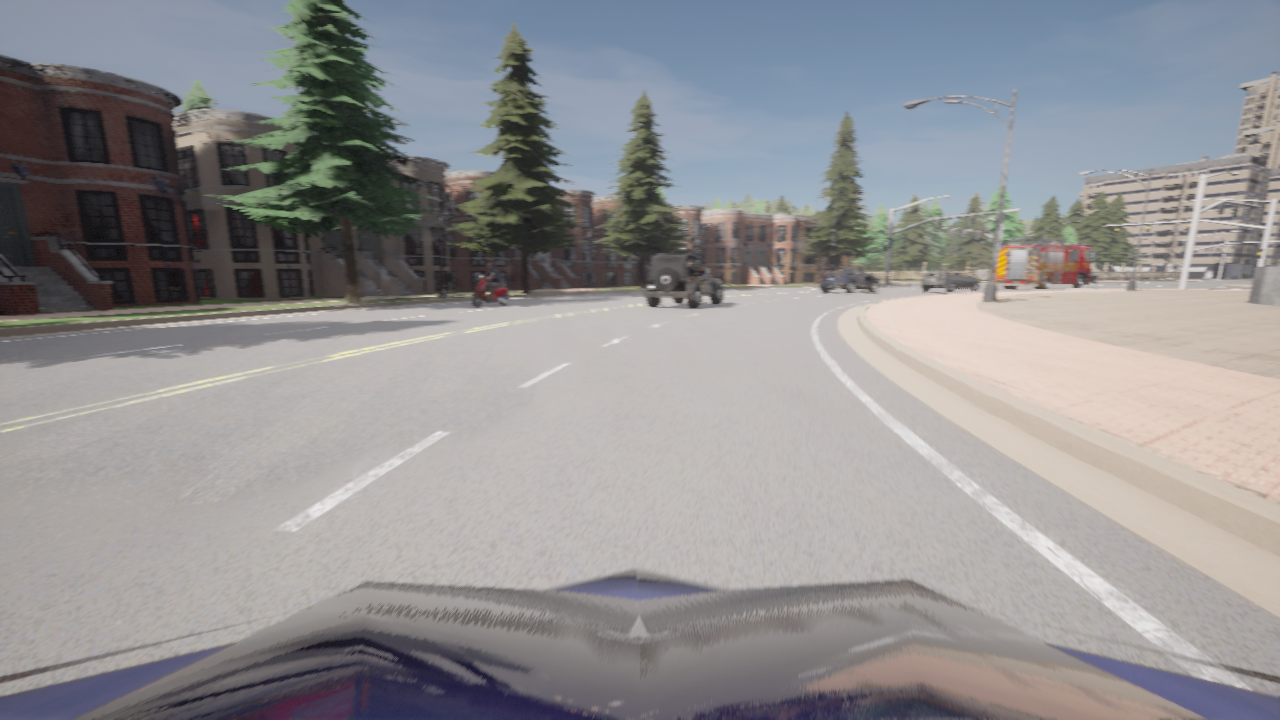cyclist: (0, 569, 1279, 719), (994, 238, 1095, 289), (643, 253, 722, 308), (819, 267, 878, 292), (921, 269, 979, 292), (472, 272, 509, 306), (1090, 272, 1097, 283)
